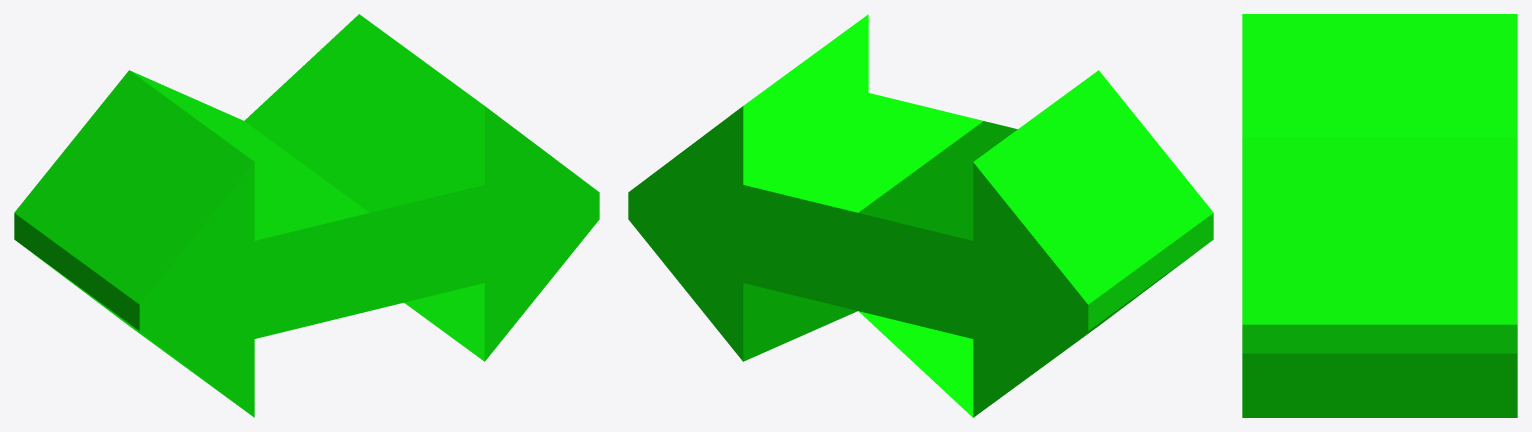
The model's file is ItemArrow.fbx.
3 views of the same model, side by side, from view 1: azimuth 30°, elevation 25°; view 2: azimuth 150°, elevation 25°; view 3: azimuth 270°, elevation 25° (orthographic). The views are drawn at different scales.
Parts seen in each view (by area): view 1: Cube.003; view 2: Cube.003; view 3: Cube.003.
Part boxes in pixels (left/top/right/bottom): Cube.003: left=14, top=14, right=599, bottom=417; Cube.003: left=628, top=14, right=1213, bottom=417; Cube.003: left=1242, top=14, right=1517, bottom=417.
Bounding box in the file's own units: 87.01 × 46.26 × 41.15.
